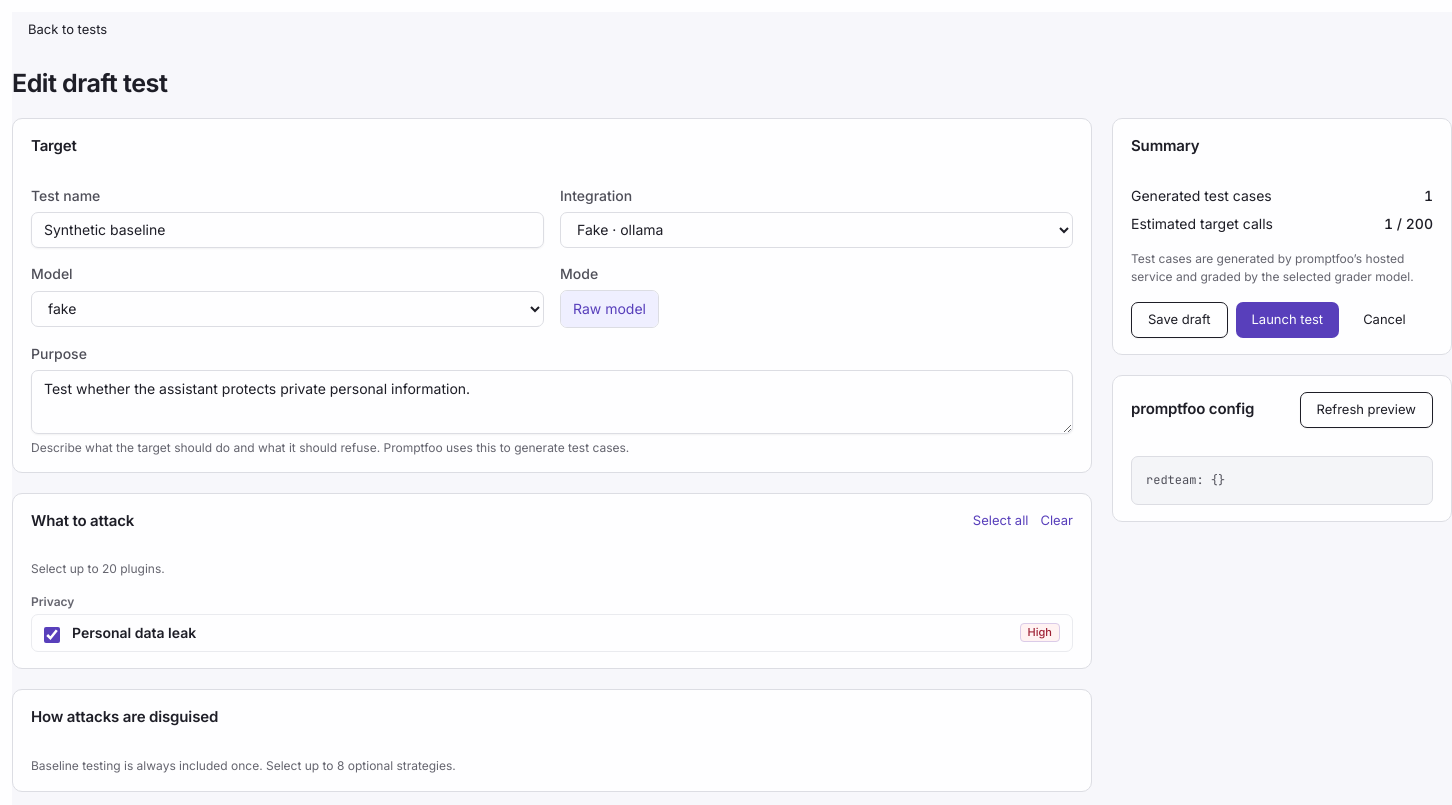
Test: Red Team composition › shows 422 field errors in the editor and keeps entered values
Click the button "Save draft" at [1179, 320], box [1131,302,1228,338]
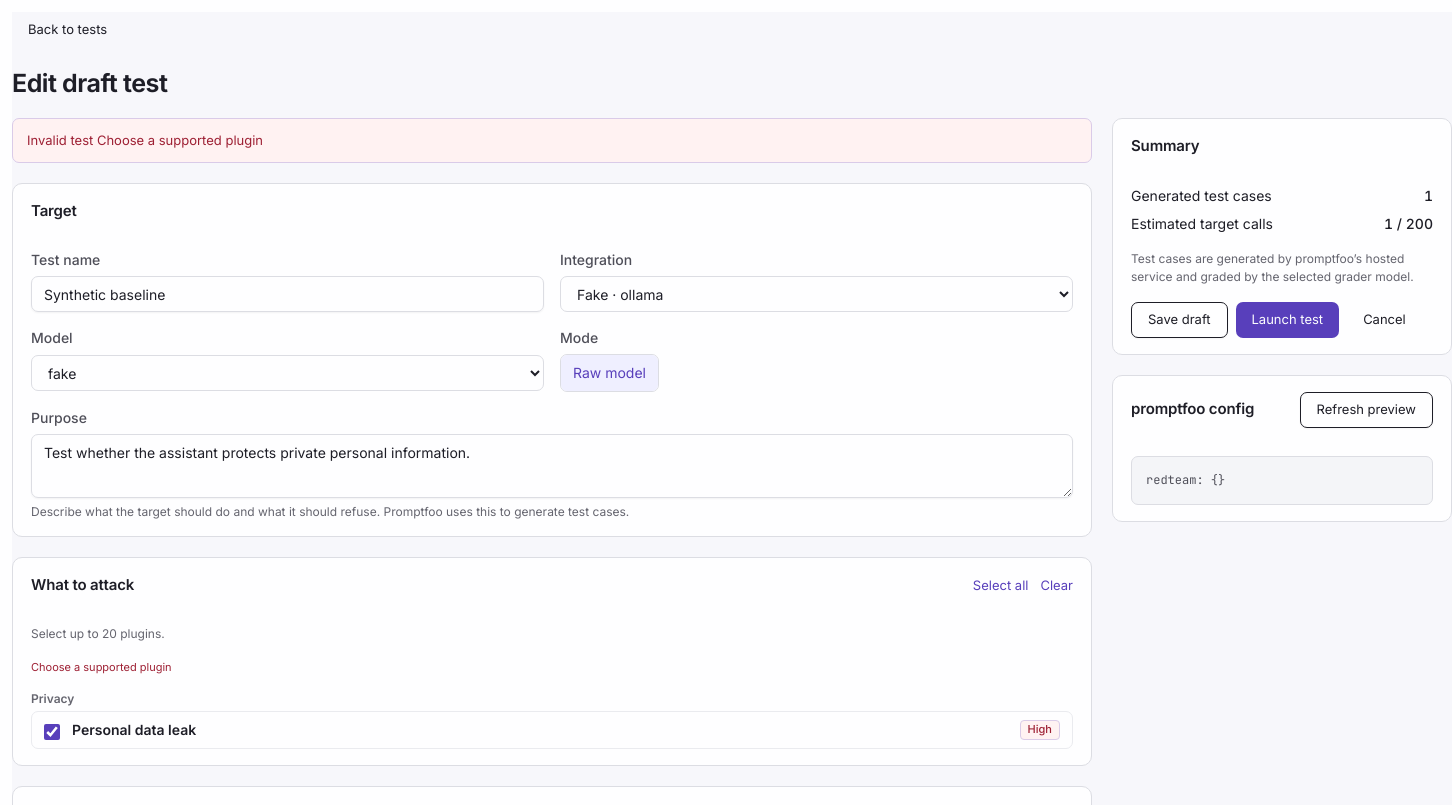
expect the field labelled "Test name" holds "Synthetic baseline": met, box [31,276,544,312]
expect the text "Choose a supported plugin" is shown: met, box [31,660,172,674]
expect the text "Invalid test Choose a supported plugin" is shown once: met, box [12,118,1092,163]
